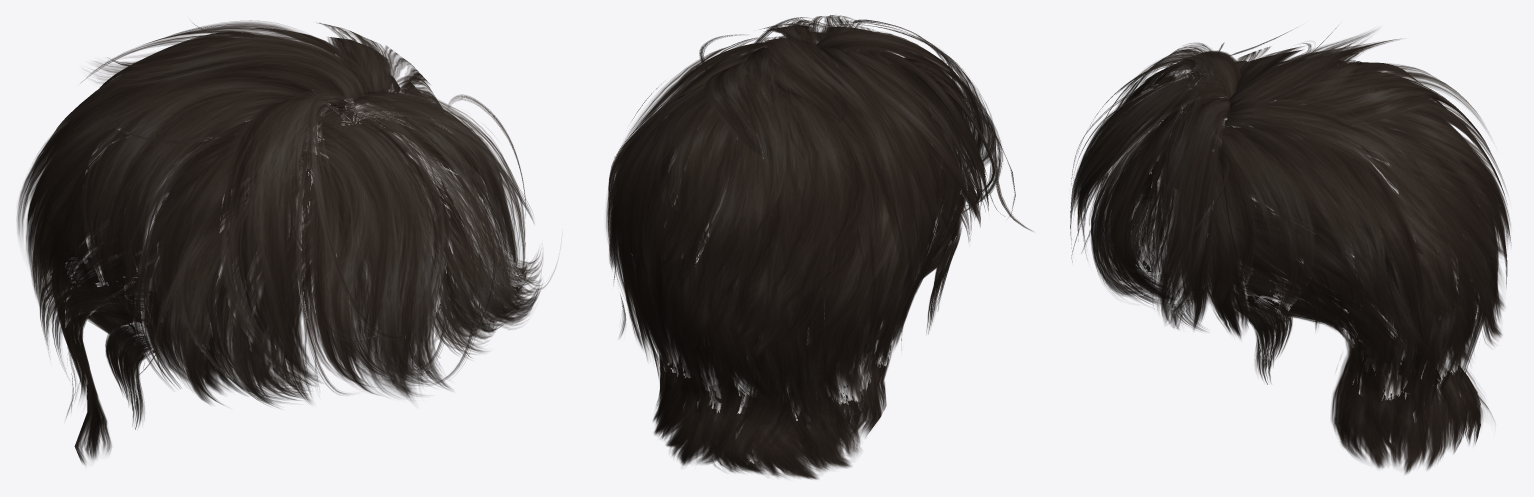
Rendered from Wavy_Fringe.glb.
3 views of the same model, side by side, from view 1: azimuth 30°, elevation 25°; view 2: azimuth 150°, elevation 25°; view 3: azimuth 270°, elevation 25° (orthographic). The views are drawn at different scales.
Parts seen in each view (by area): view 1: s4studio_mesh_3.001, s4studio_mesh_1.002, s4studio_mesh_6; view 2: s4studio_mesh_3.001, s4studio_mesh_1.002, s4studio_mesh_6; view 3: s4studio_mesh_3.001, s4studio_mesh_1.002, s4studio_mesh_6.
Boxes of the visible parts, left/top/right/bottom form: s4studio_mesh_3.001: left=17, top=20, right=557, bottom=458; s4studio_mesh_1.002: left=65, top=253, right=493, bottom=464; s4studio_mesh_6: left=82, top=32, right=400, bottom=384; s4studio_mesh_3.001: left=606, top=15, right=1033, bottom=478; s4studio_mesh_1.002: left=655, top=152, right=988, bottom=478; s4studio_mesh_6: left=608, top=47, right=994, bottom=257; s4studio_mesh_3.001: left=1070, top=25, right=1511, bottom=472; s4studio_mesh_1.002: left=1129, top=194, right=1493, bottom=472; s4studio_mesh_6: left=1169, top=60, right=1490, bottom=299.
Size of the model in its own units: 0.2634 by 0.2743 by 0.2838.
1 material, 1 textured.
